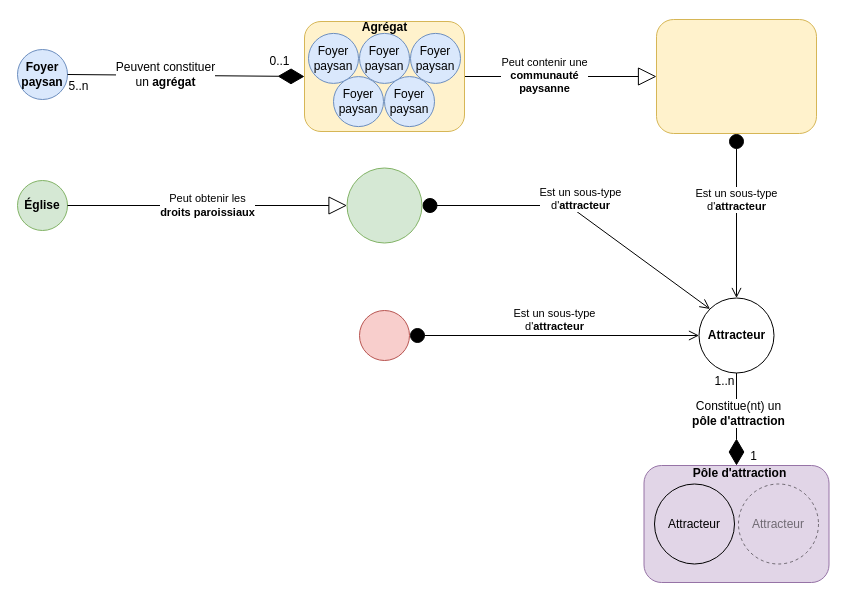
This 847x600 diagram has some shape labels left out. Each missing label, with the centre of its shape:
Agrégat contenant une communauté paysanne: [736,76]
Château: [384,335]
Église paroissiale: [384,205]
